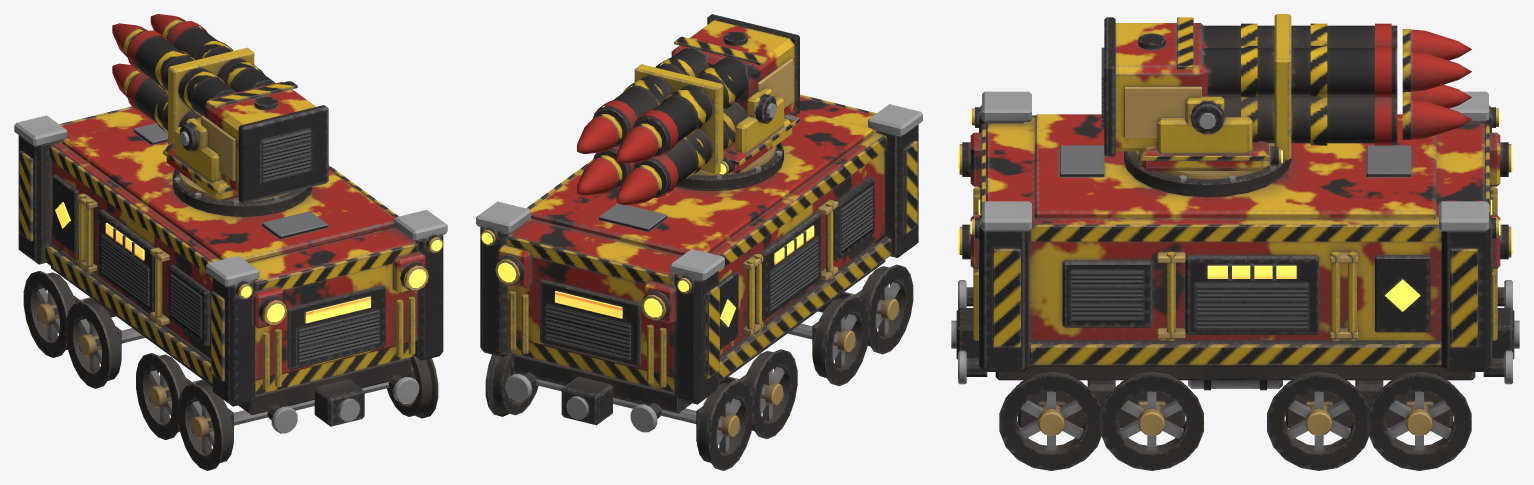
The model's file is SM_DRL_RocketCar.fbx.
3 renders of one model, left to right at view 1: azimuth 30°, elevation 25°; view 2: azimuth 150°, elevation 25°; view 3: azimuth 270°, elevation 25°, orthographic. The views are drawn at different scales.
Parts seen in each view (by area): view 1: Body, Cannon, Axle_4, Turret, Axle_2, Axle_3, Axle_1, Rocket_1, Rocket_3, Rocket_2; view 2: Body, Cannon, Axle_1, Turret, Axle_3, Axle_2, Axle_4, Rocket_1, Rocket_3, Rocket_4, Rocket_2; view 3: Body, Cannon, Turret, Axle_3, Axle_1, Axle_2, Axle_4, Rocket_2, Rocket_4, Rocket_1, Rocket_3.
Boxes of the visible parts, <box> form: Body: <box>14,106,447,442</box>; Cannon: <box>126,21,328,203</box>; Axle_4: <box>178,356,438,470</box>; Turret: <box>163,118,312,216</box>; Axle_2: <box>65,301,145,388</box>; Axle_3: <box>136,353,203,439</box>; Axle_1: <box>23,271,90,357</box>; Rocket_1: <box>112,23,147,57</box>; Rocket_3: <box>112,63,139,97</box>; Rocket_2: <box>150,14,185,37</box>; Body: <box>476,94,922,441</box>; Cannon: <box>593,14,799,197</box>; Axle_1: <box>485,352,753,470</box>; Turret: <box>675,88,795,190</box>; Axle_3: <box>788,296,868,385</box>; Axle_2: <box>728,349,797,438</box>; Axle_4: <box>844,264,913,354</box>; Rocket_1: <box>616,122,663,163</box>; Rocket_3: <box>616,163,663,205</box>; Rocket_4: <box>577,155,623,195</box>; Rocket_2: <box>577,113,622,154</box>; Body: <box>951,91,1519,427</box>; Cannon: <box>1101,14,1397,160</box>; Turret: <box>1124,96,1291,197</box>; Axle_3: <box>1099,372,1203,470</box>; Axle_1: <box>1367,372,1471,470</box>; Axle_2: <box>1267,372,1369,470</box>; Axle_4: <box>999,372,1101,470</box>; Rocket_2: <box>1402,51,1471,91</box>; Rocket_4: <box>1402,99,1471,139</box>; Rocket_1: <box>1402,29,1471,60</box>; Rocket_3: <box>1402,84,1471,108</box>.
Bounding box in the file's own units: 1.1 × 2.04 × 1.47.
